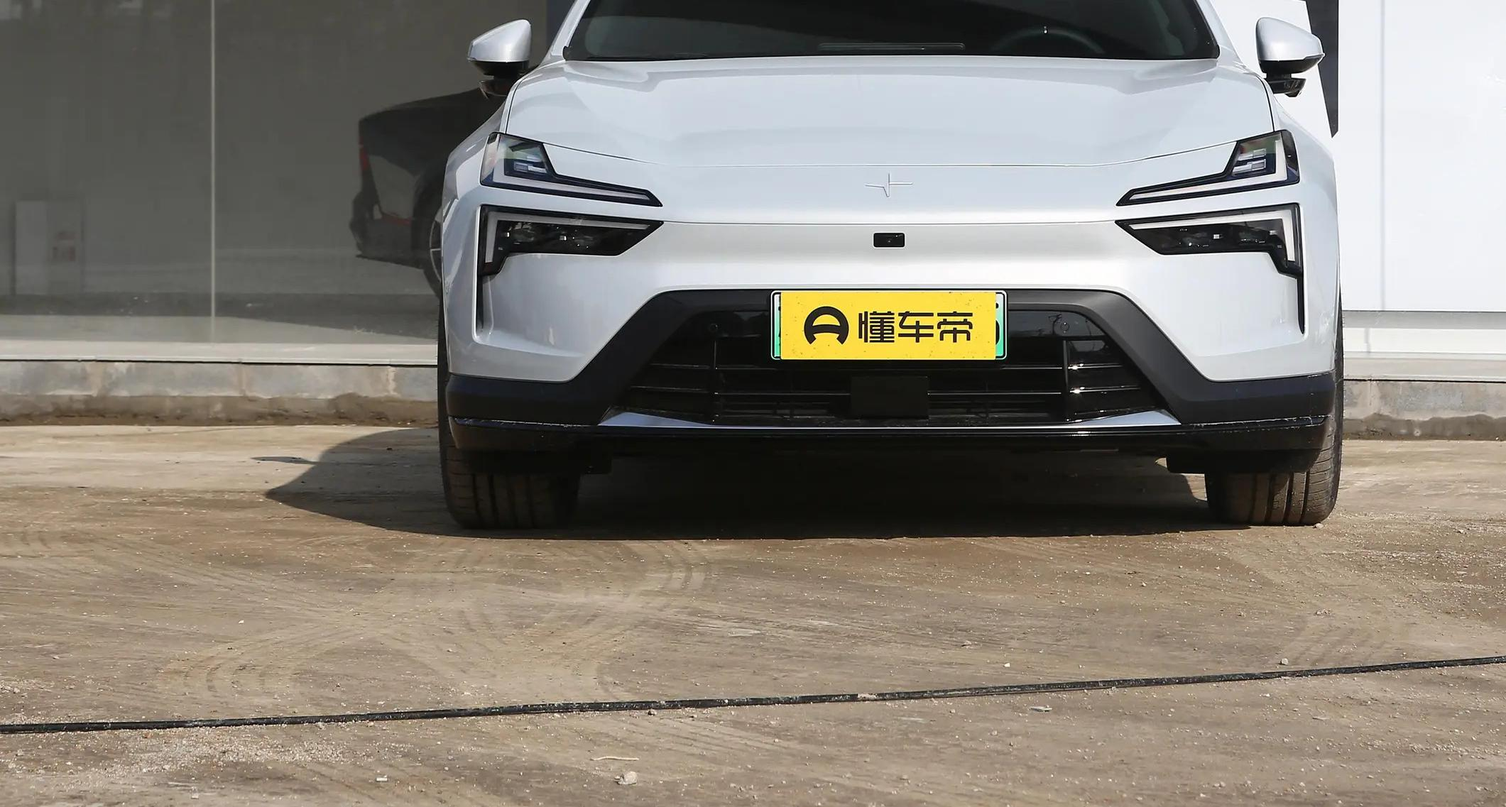Polestar: (865, 172, 913, 197)
